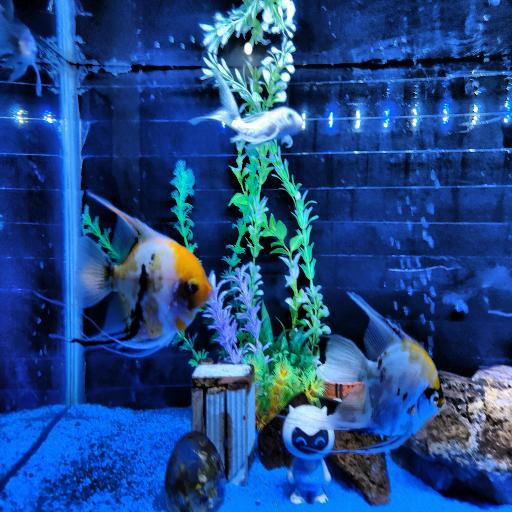Fish: (78, 193, 211, 357), (318, 294, 444, 453), (190, 75, 302, 147), (0, 0, 41, 96)
